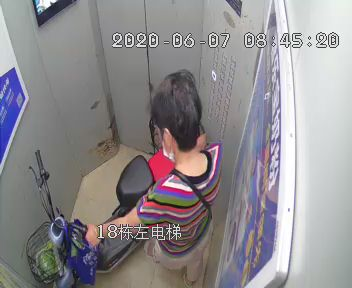Electric-bicycle: (27, 139, 192, 286)
